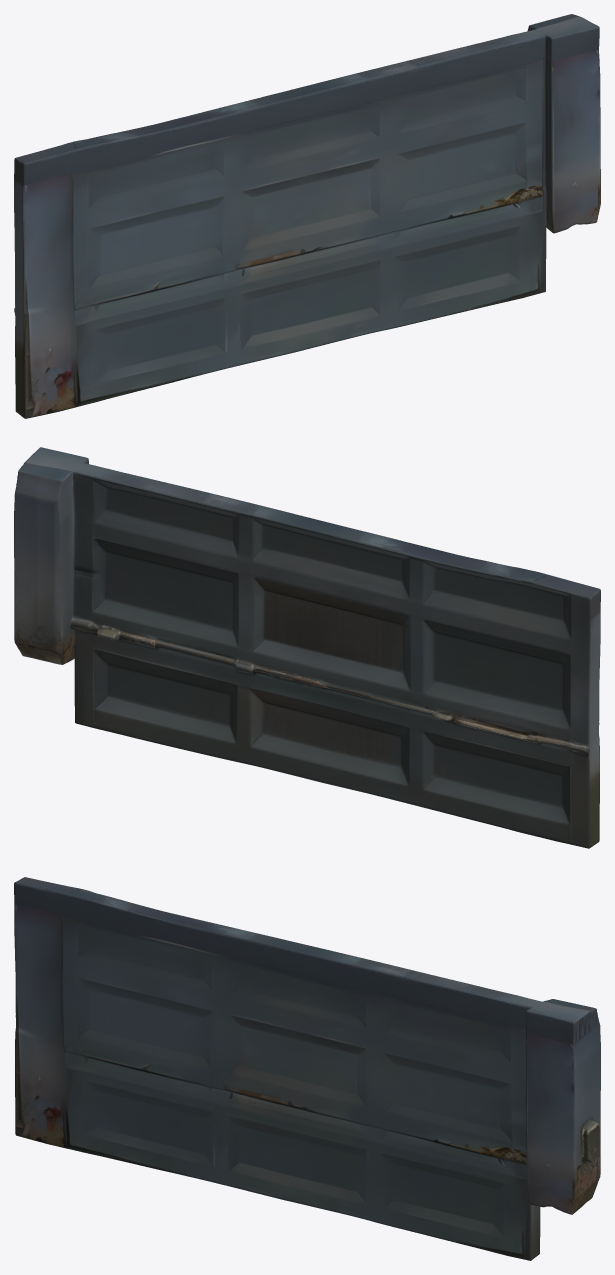
The model's file is tripo_convert_7f14fbcd-c880-49c0-b277-5990c43f7353.fbx.
3 renders of one model, top to bottom at view 1: azimuth 30°, elevation 25°; view 2: azimuth 150°, elevation 25°; view 3: azimuth 330°, elevation 25°, orthographic.
Parts seen in each view (by area): view 1: tripo_node_7f14fbcd; view 2: tripo_node_7f14fbcd; view 3: tripo_node_7f14fbcd.
Boxes of the visible parts, <box> form: tripo_node_7f14fbcd: <box>14,14,600,418</box>; tripo_node_7f14fbcd: <box>14,447,600,848</box>; tripo_node_7f14fbcd: <box>14,877,600,1260</box>.
Size of the model in its own units: 1 by 0.426 by 0.0915.
1 material, 1 textured.
